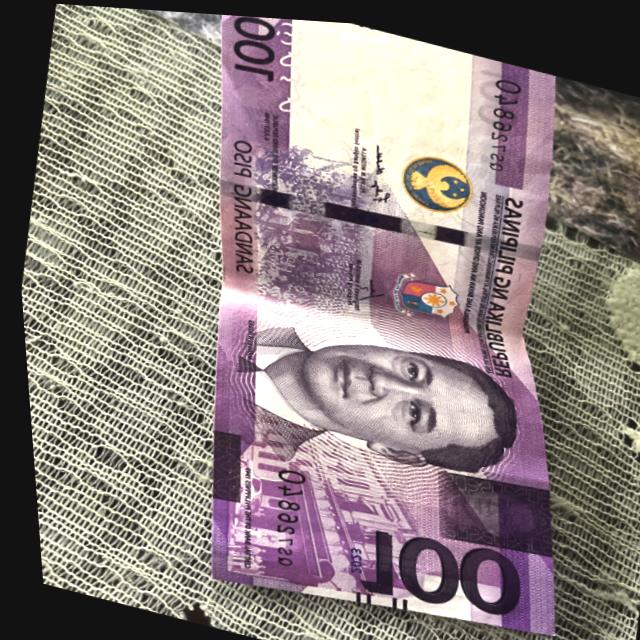concealed_value: (416, 453, 558, 564)
security_thread: (208, 158, 540, 274)
see_through_mark: (255, 13, 328, 121)
serial_number: (475, 67, 545, 180), (257, 461, 317, 572)
value: (340, 499, 537, 638)
